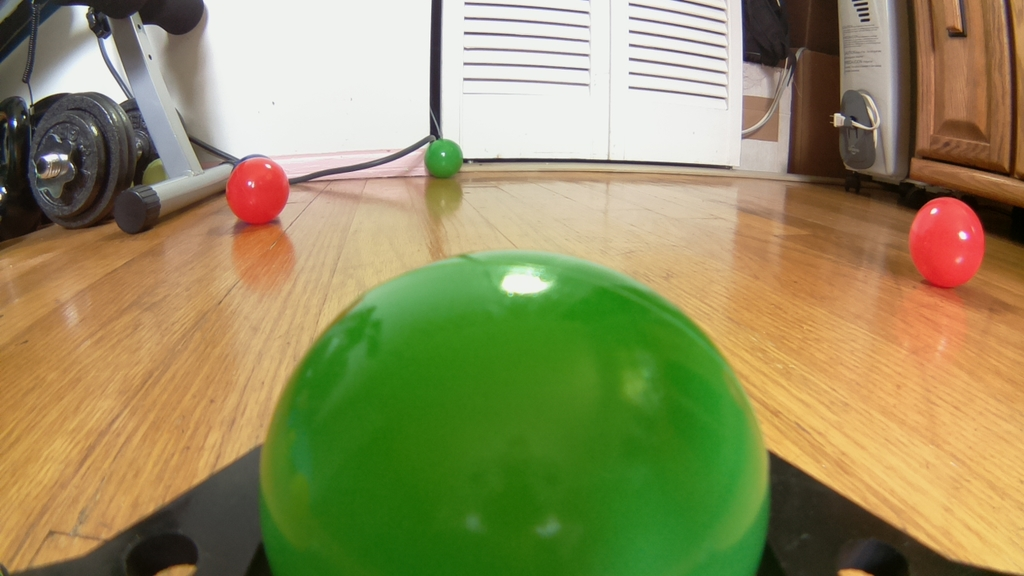ball: (252, 247, 771, 576)
